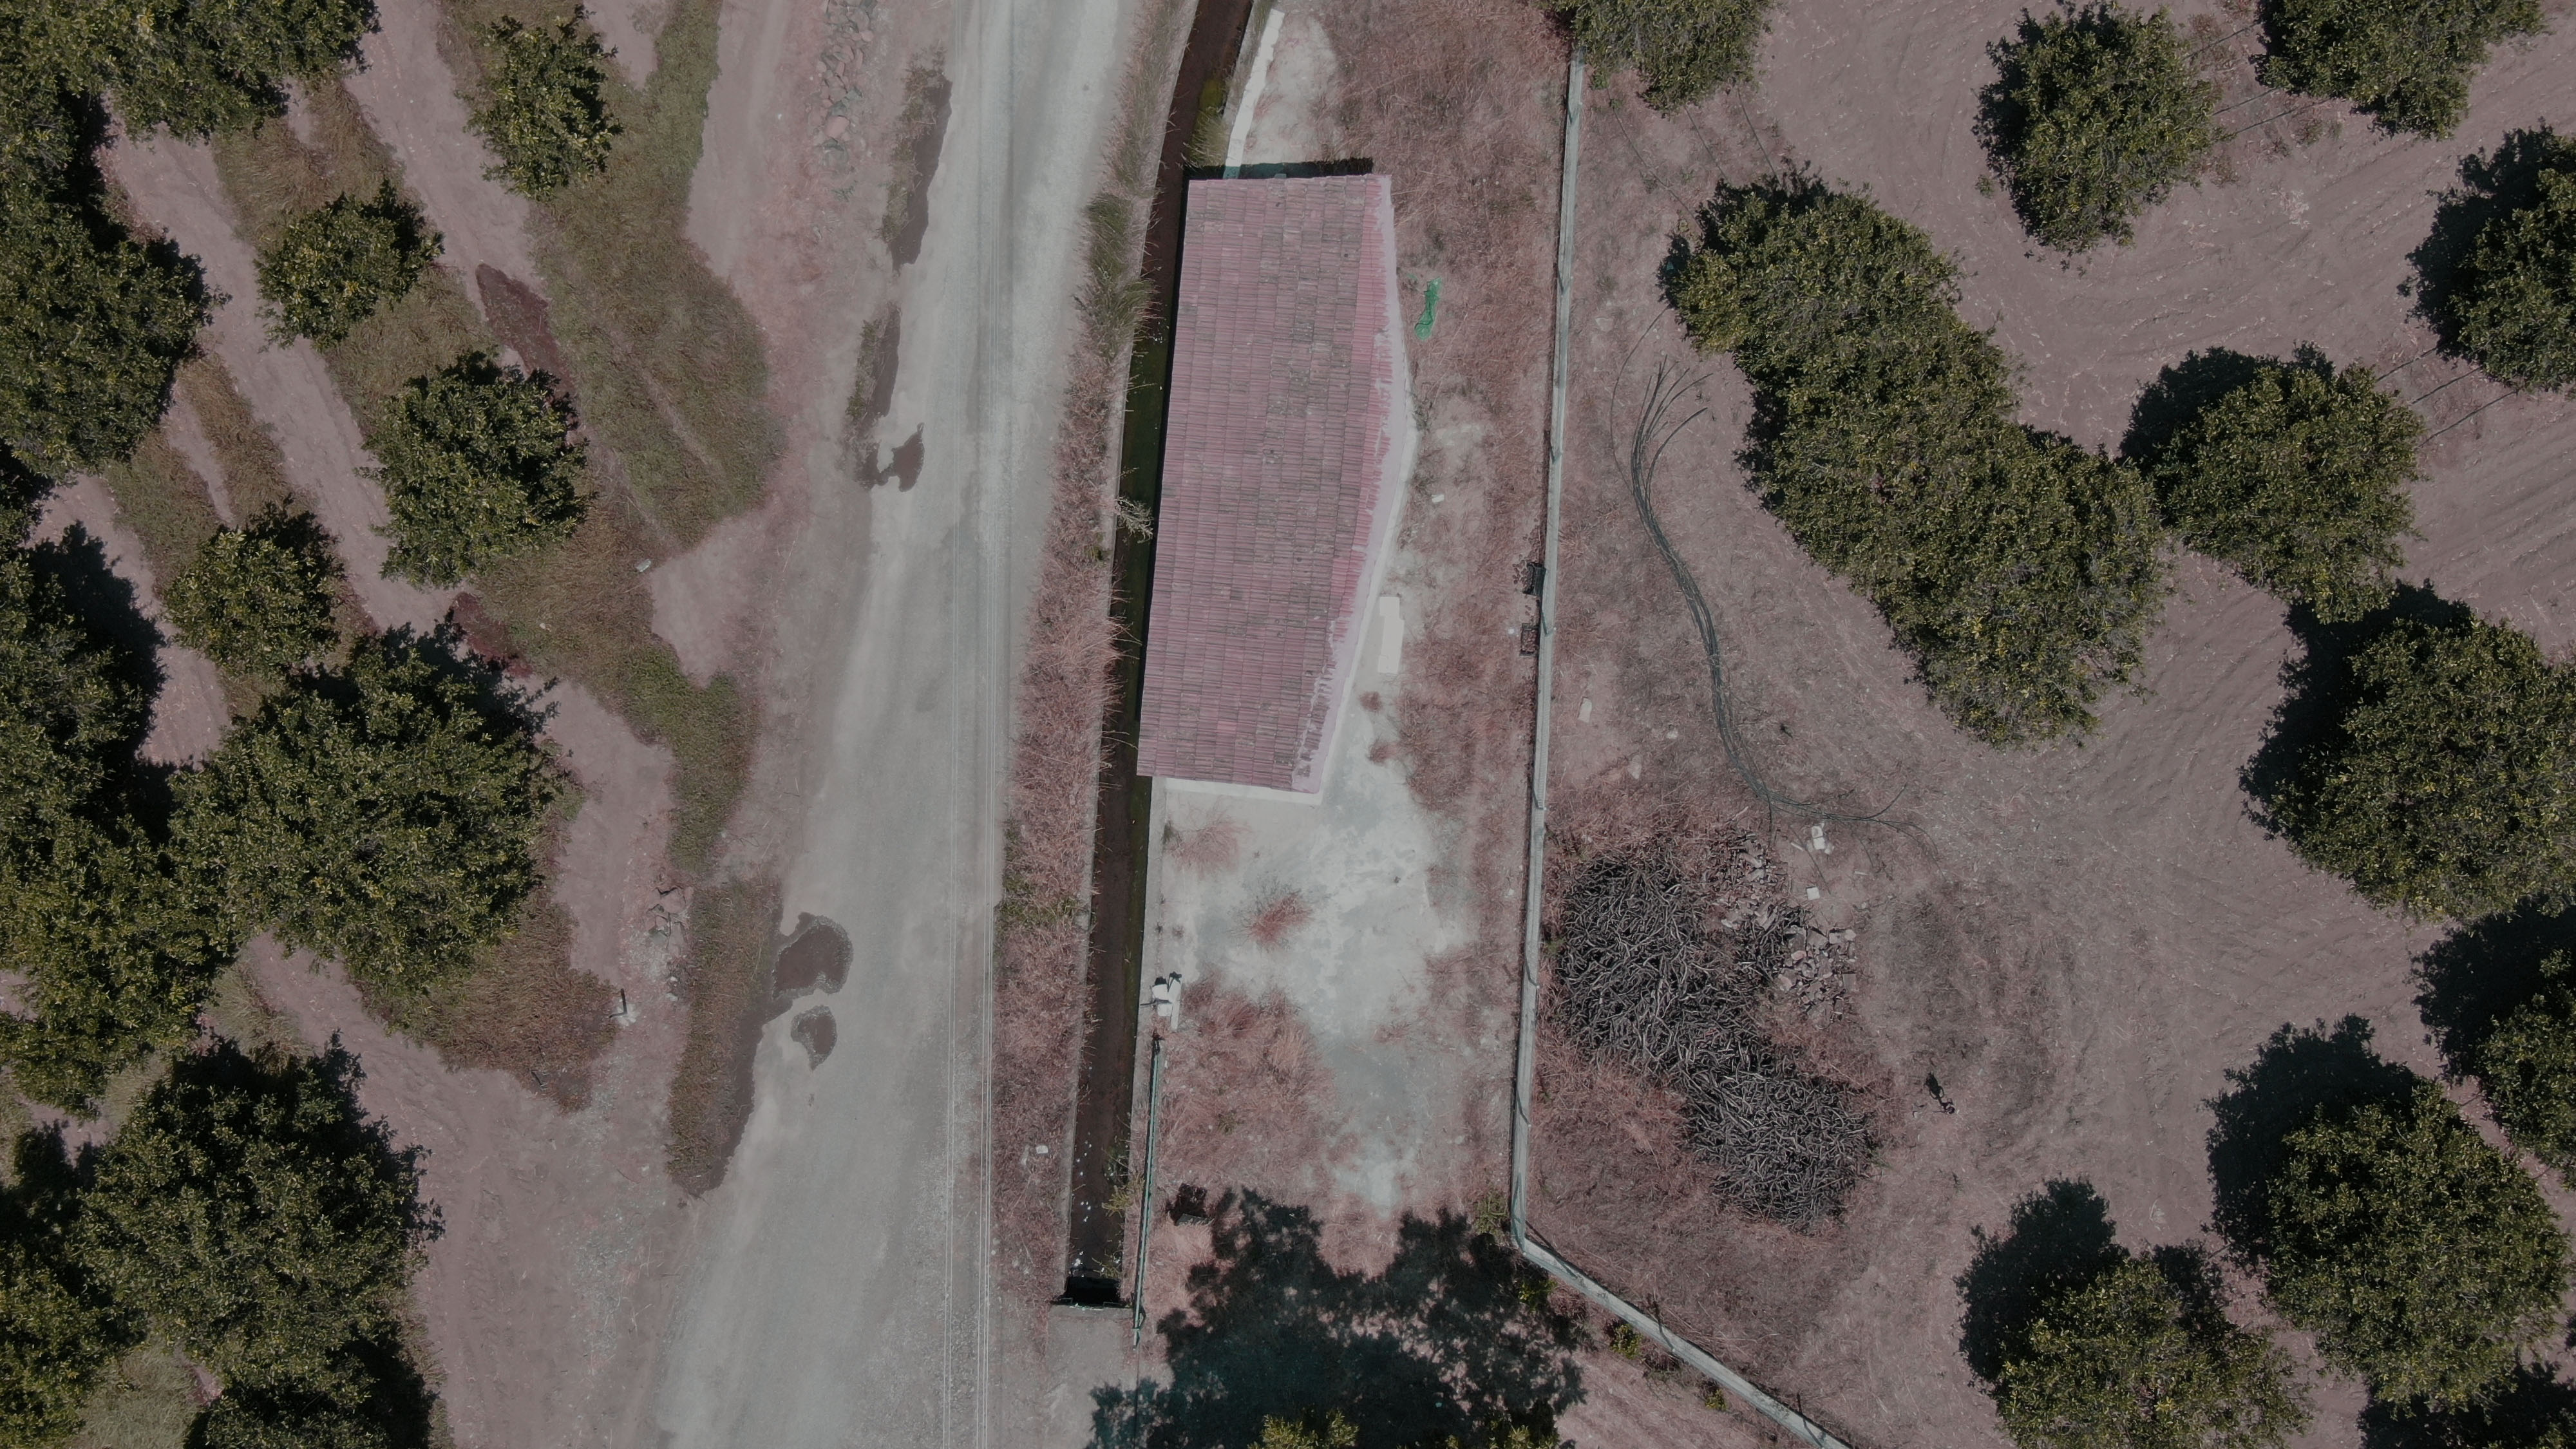TREE: (173, 660, 561, 978), (85, 1099, 414, 1394), (2268, 1090, 2562, 1421), (2318, 640, 2576, 918), (1909, 449, 2158, 727), (2166, 375, 2413, 621), (2, 205, 200, 488), (1990, 7, 2203, 267), (9, 832, 223, 1085), (1674, 196, 1962, 363), (2006, 1284, 2295, 1449), (1769, 343, 2013, 524), (386, 356, 568, 582), (2259, 0, 2534, 138), (103, 4, 375, 142), (0, 571, 143, 821), (2457, 152, 2572, 400), (168, 520, 343, 681), (474, 23, 625, 196), (1541, 4, 1778, 111), (7, 1217, 115, 1445), (265, 203, 425, 357), (14, 0, 87, 205)
